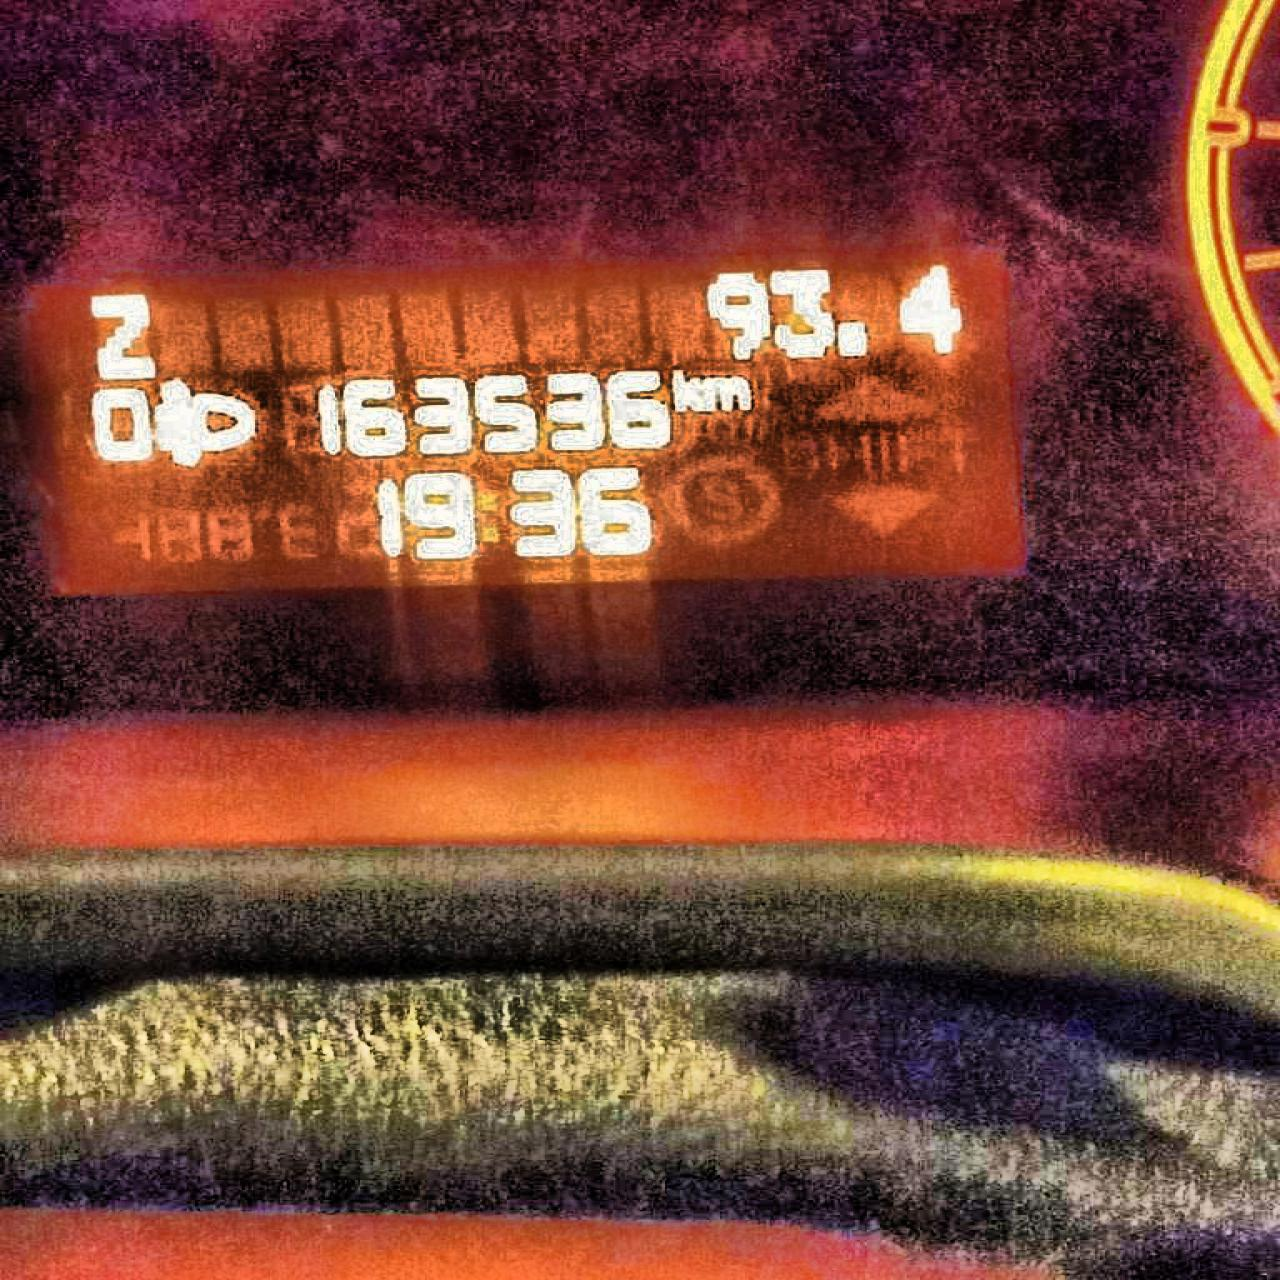-: (832, 313, 873, 362)
0: (90, 387, 151, 462)
1: (370, 471, 402, 560), (313, 376, 342, 457)
3: (768, 267, 837, 359), (509, 465, 577, 556), (410, 373, 474, 455), (545, 370, 604, 449)
4: (893, 261, 960, 355)
5: (474, 368, 538, 452)
6: (577, 463, 653, 558), (341, 375, 407, 456), (607, 366, 670, 449)
9: (406, 468, 481, 563), (704, 267, 770, 362)
X: (82, 287, 166, 381), (477, 483, 505, 552), (702, 375, 755, 411), (667, 365, 700, 416)
odometer: (12, 238, 1039, 602)
